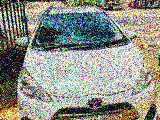car: (13, 5, 158, 120)
